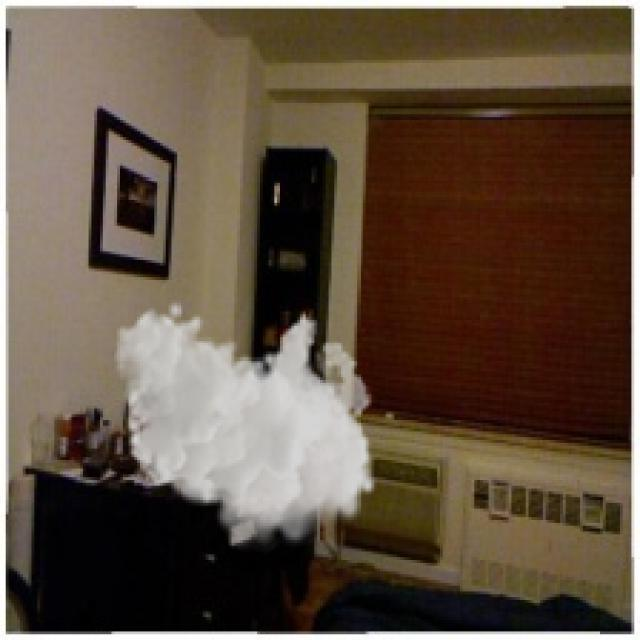Smoke: (114, 300, 377, 554)
